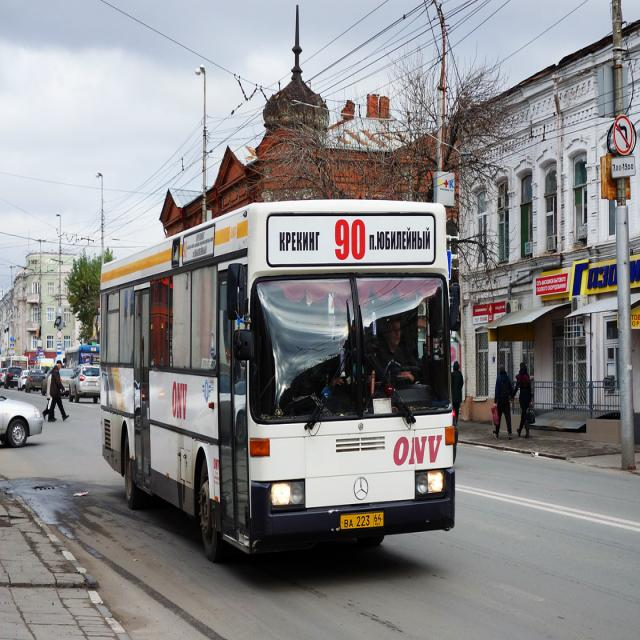number-of-bus: (332, 215, 369, 263)
